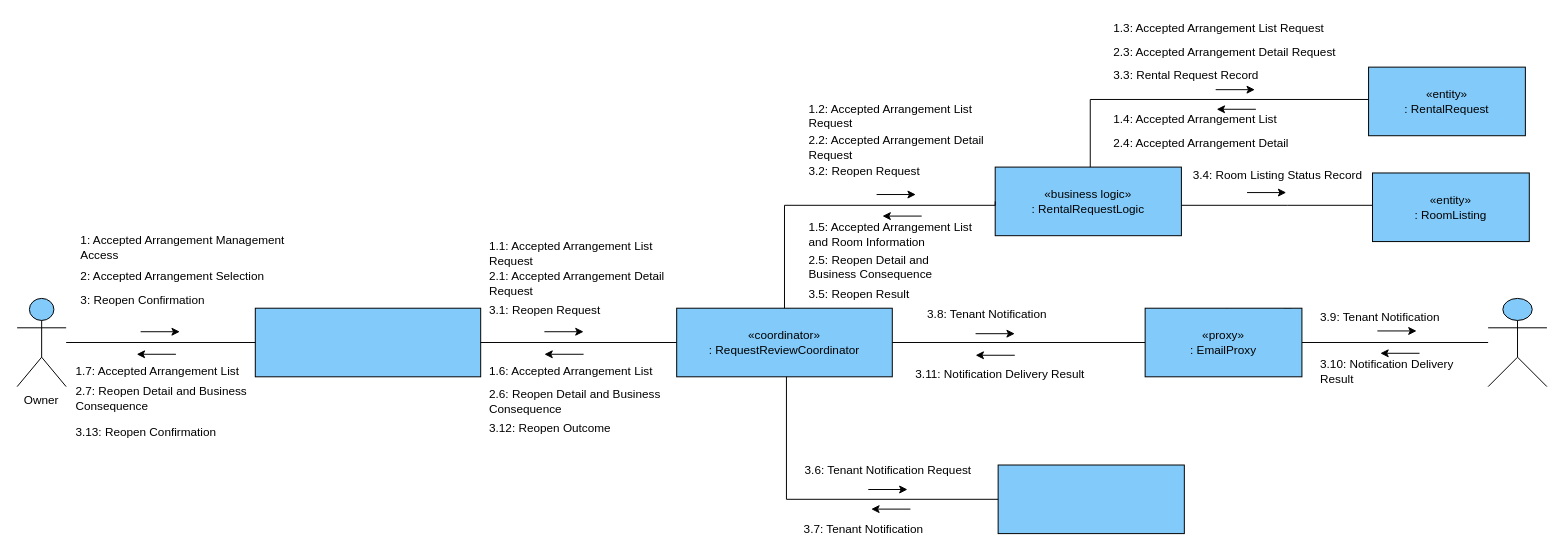
This 1564x558 diagram has some shape labels left out. The shapes that lost their labels are listed below. From the top down, each one's centre as x and y in pixels, then its label:
At (367,342): "«user interaction» : ReopenArrangementUI".
At (1517,342): "Email Provider".
At (1090,499): "«service» : NotificationService".
